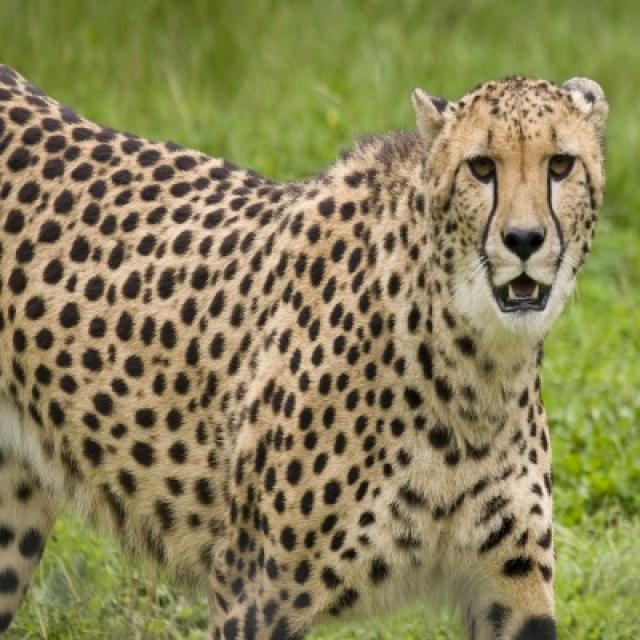Cheetah: (0, 66, 606, 638)
